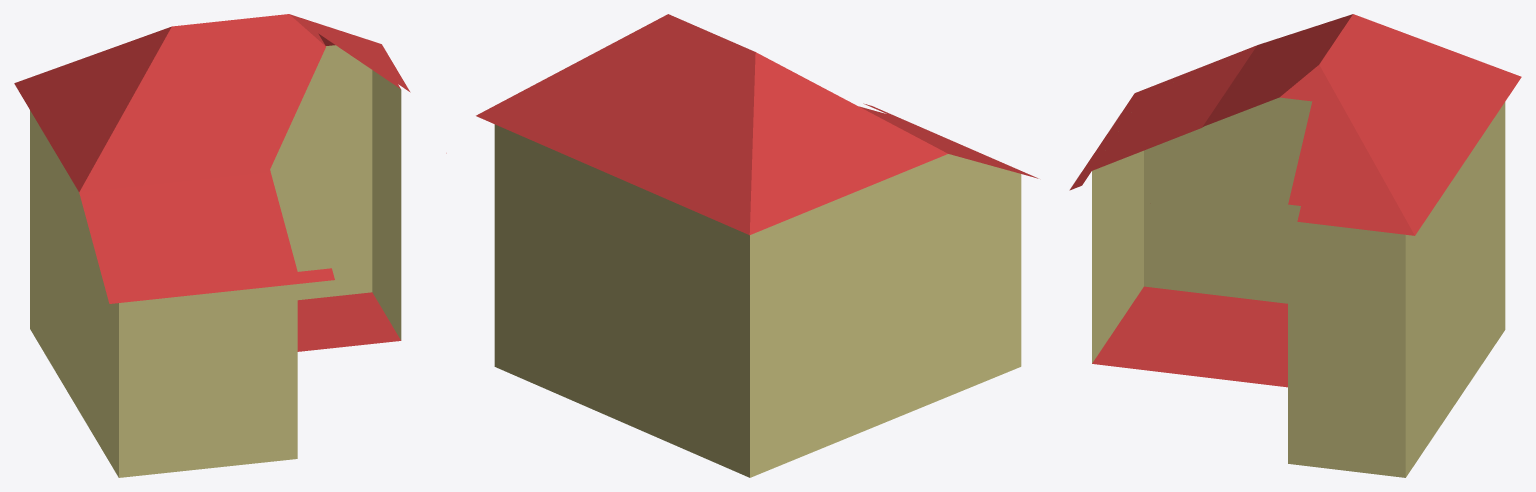
3 renders of one model, left to right at view 1: azimuth 30°, elevation 25°; view 2: azimuth 150°, elevation 25°; view 3: azimuth 270°, elevation 25°, orthographic. The views are drawn at different scales.
Size of the model in its own units: 18.06 by 16.82 by 14.35.
